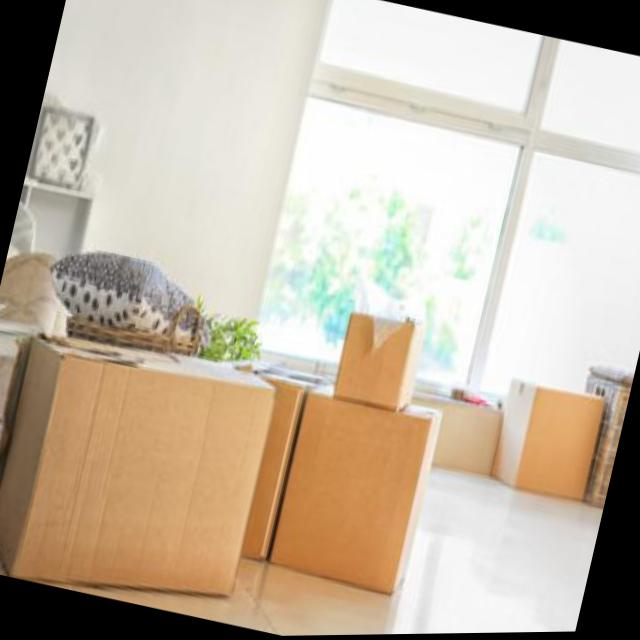box: (0, 314, 302, 631), (259, 382, 450, 637), (204, 333, 318, 571), (478, 357, 620, 523), (310, 297, 436, 439), (418, 379, 510, 494)
